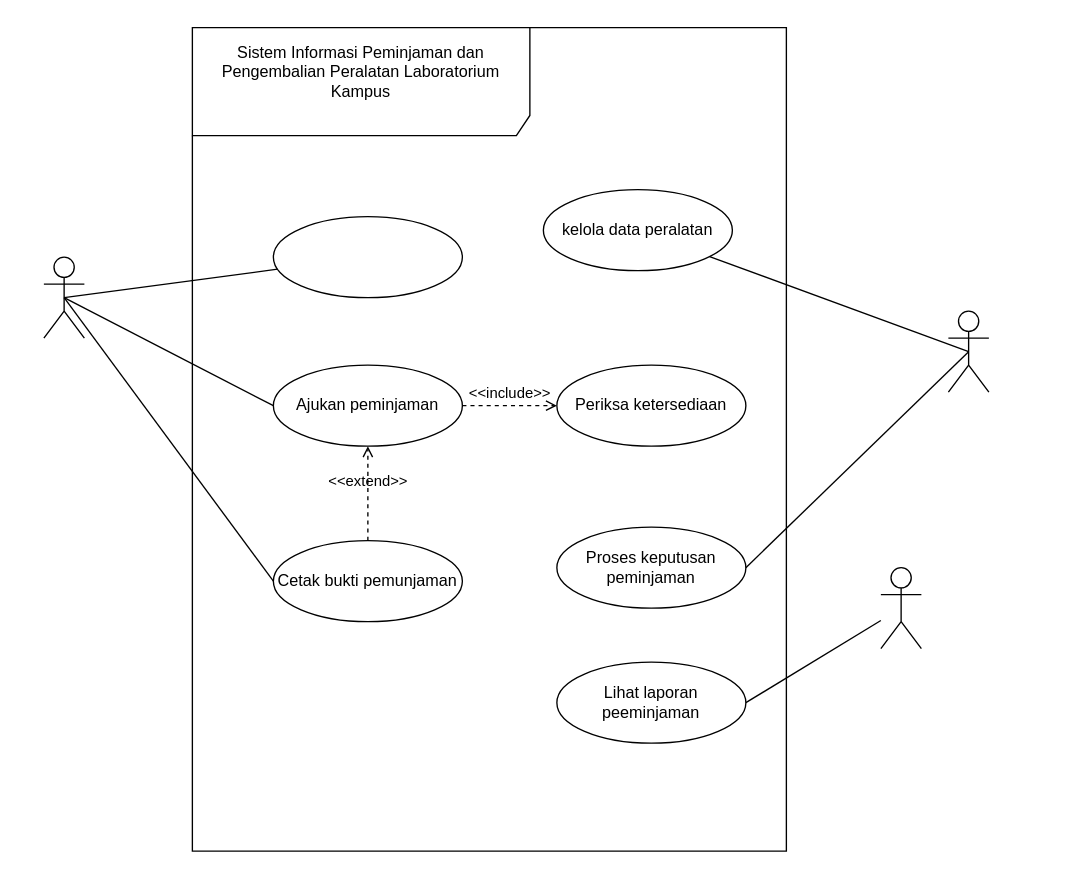
Image size: 1068x875. Some labels were removed from this diagram. The box of each missing label's shape, as (x1, y1, x2, y2) in pixels:
Kepala laboratorium: (880, 566, 921, 649)
lihat ketersediaan peralatan: (272, 215, 462, 298)
mahasiswa: (43, 256, 84, 338)
petugas laboratorium: (947, 310, 989, 392)
